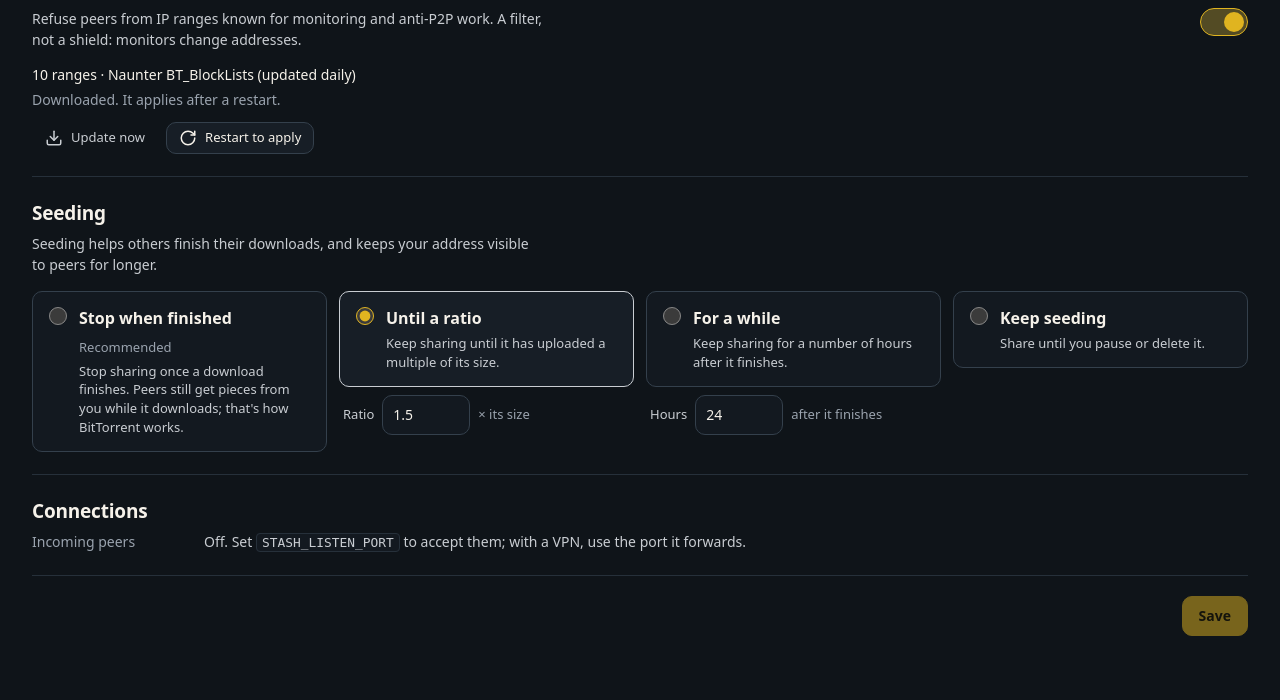
Scenario: Privacy page › ratio  invalid=true
(page scrolled)
Clear the field labelled "Ratio". click: (426, 415)
box: [382,395,470,435]
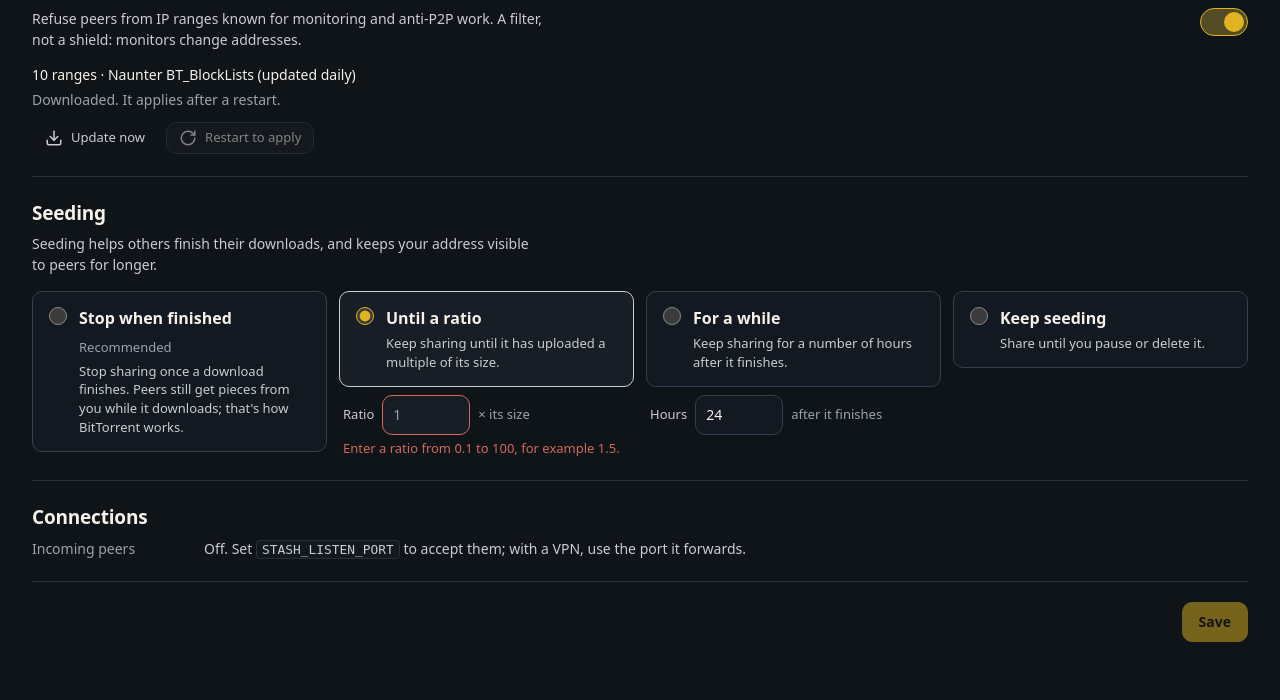
Check: the text "Enter a ratio from 0.1 to 100, for example 1.5." is shown, box [343,439,630,458]
